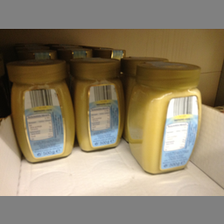honey: (127, 63, 203, 176), (8, 62, 75, 162), (72, 57, 126, 155)
